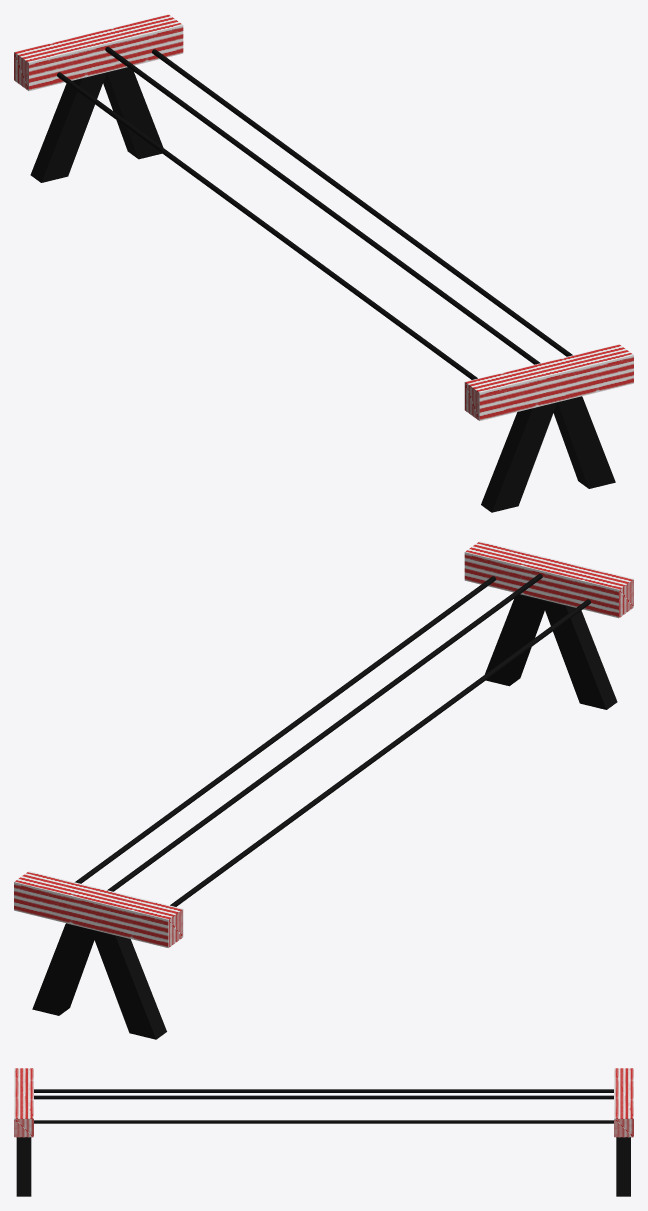
Rendered from Obstaculo4.fbx.
3 views of the same model, one above another, from view 1: azimuth 30°, elevation 25°; view 2: azimuth 150°, elevation 25°; view 3: azimuth 270°, elevation 25° (orthographic). The views are drawn at different scales.
Parts seen in each view (by area): view 1: Box002, Box006, Line002; view 2: Box006, Box002, Line002; view 3: Line002, Box002, Box006.
Part boxes in pixels (x1,y1,x2,y2): Box002: (464, 344, 633, 512); Box006: (14, 14, 183, 182); Line002: (57, 46, 572, 379); Box006: (14, 871, 183, 1039); Box002: (464, 541, 633, 709); Line002: (75, 573, 590, 906); Line002: (34, 1089, 613, 1123); Box002: (14, 1068, 33, 1196); Box006: (614, 1068, 633, 1196).
Bounding box in the file's own units: 33.45 × 25.93 × 175.
Materials: 2 (1 with a texture image).
